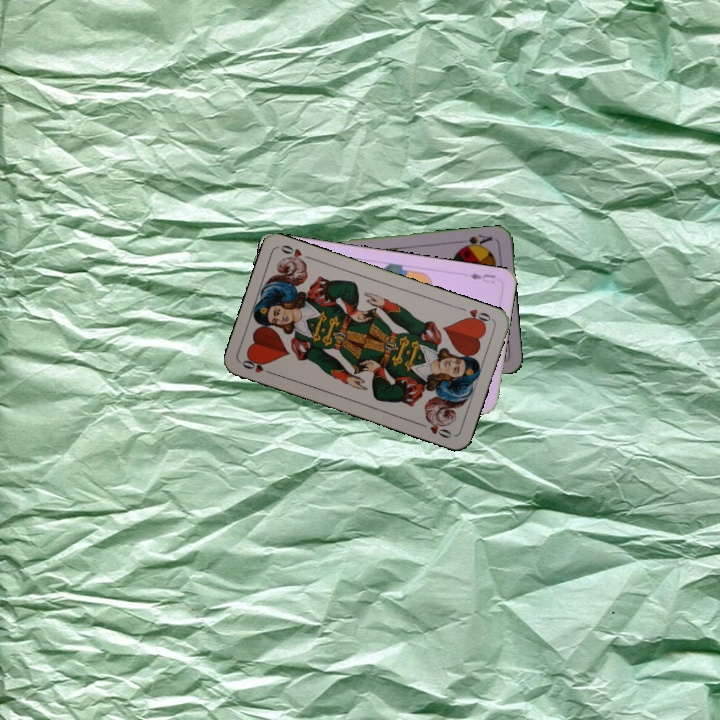EU: (465, 269, 498, 286)
HO: (455, 303, 495, 328), (238, 354, 277, 377)
SA: (456, 231, 495, 251)
